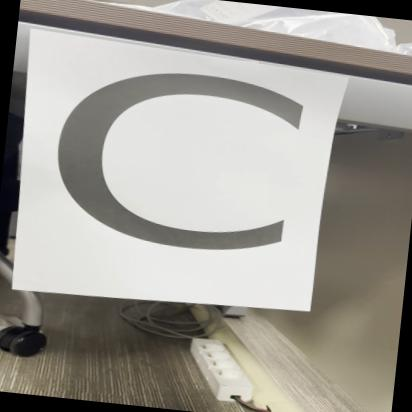seat: (13, 21, 337, 314)
